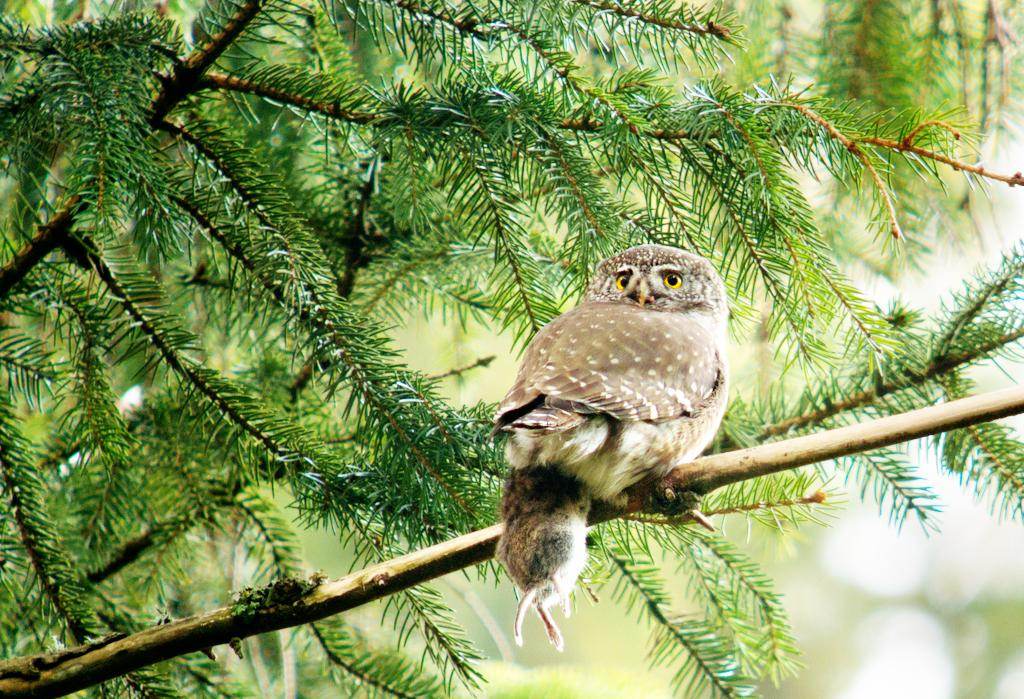Owl: (486, 243, 736, 658)
